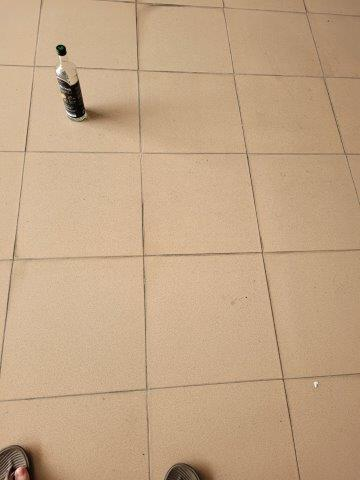botolkaca: (55, 43, 86, 121)
